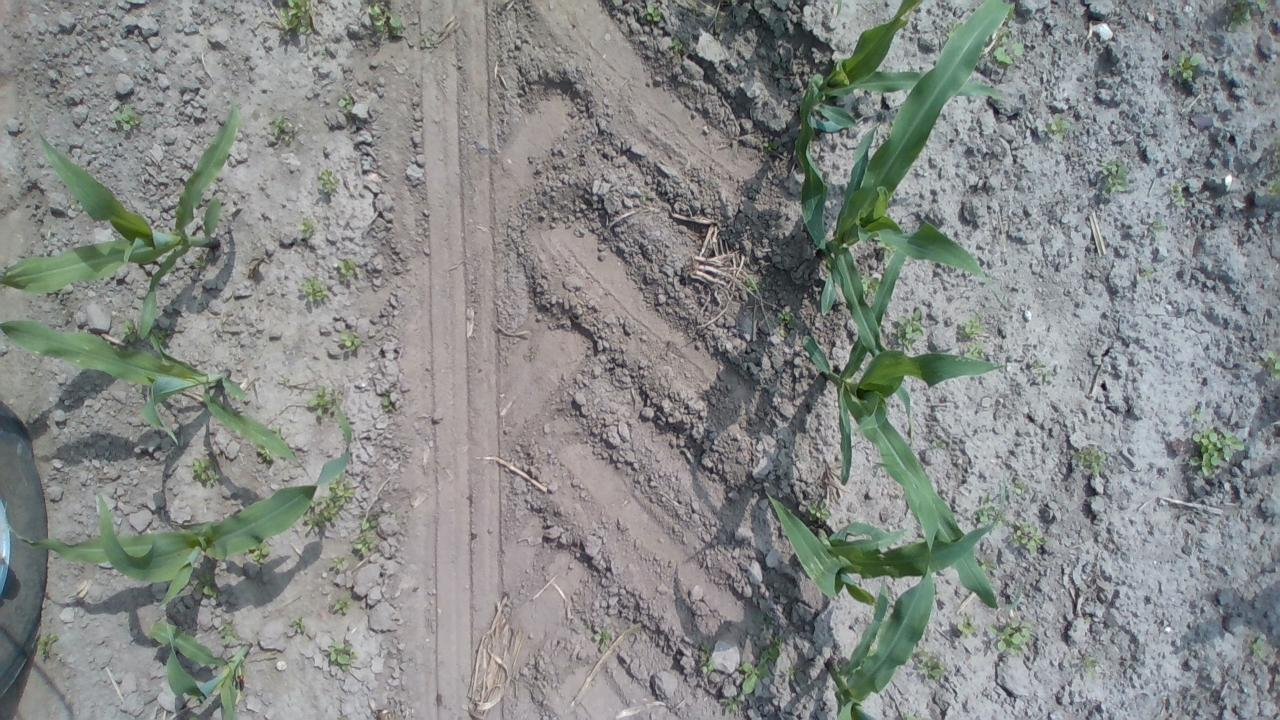Maize: (798, 4, 1035, 373), (807, 214, 1016, 614), (8, 412, 360, 604), (1, 91, 248, 351), (0, 303, 309, 472), (772, 0, 929, 291), (747, 490, 964, 630), (816, 550, 950, 720), (107, 607, 279, 720)
Weeds: (734, 617, 791, 696), (1186, 419, 1250, 476), (302, 476, 362, 534), (352, 0, 410, 44), (1096, 153, 1143, 203), (275, 0, 330, 40), (1166, 50, 1208, 96), (117, 317, 173, 350), (1071, 442, 1117, 482), (958, 314, 993, 363), (989, 24, 1026, 69), (304, 382, 344, 422), (984, 614, 1026, 652), (893, 306, 927, 352), (916, 651, 954, 690), (1012, 519, 1048, 558), (968, 498, 1011, 530), (110, 105, 146, 139), (691, 633, 717, 680), (1223, 0, 1270, 25), (190, 451, 221, 488), (268, 115, 302, 148), (214, 614, 246, 648), (1042, 109, 1078, 139), (324, 640, 361, 669), (328, 328, 363, 357), (296, 278, 332, 306), (245, 536, 277, 564), (664, 36, 692, 68), (350, 533, 384, 559), (638, 0, 668, 29), (326, 595, 358, 622), (318, 162, 342, 198), (1032, 358, 1060, 387), (949, 611, 974, 643), (200, 566, 222, 602), (1268, 138, 1280, 204), (589, 622, 619, 648), (803, 501, 832, 527), (856, 268, 878, 298), (36, 631, 58, 661), (256, 439, 281, 464), (358, 509, 382, 535), (379, 386, 402, 413), (1260, 349, 1280, 380), (339, 88, 361, 116), (774, 304, 796, 332), (1247, 634, 1269, 662), (741, 272, 766, 296), (338, 261, 367, 281), (1077, 650, 1099, 676), (290, 614, 312, 640), (328, 554, 352, 577), (292, 219, 321, 238), (1169, 181, 1186, 213), (1134, 268, 1158, 286), (782, 662, 799, 684), (720, 692, 743, 706), (1150, 218, 1166, 235)
